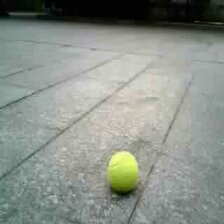tennis: (106, 151, 138, 189)
